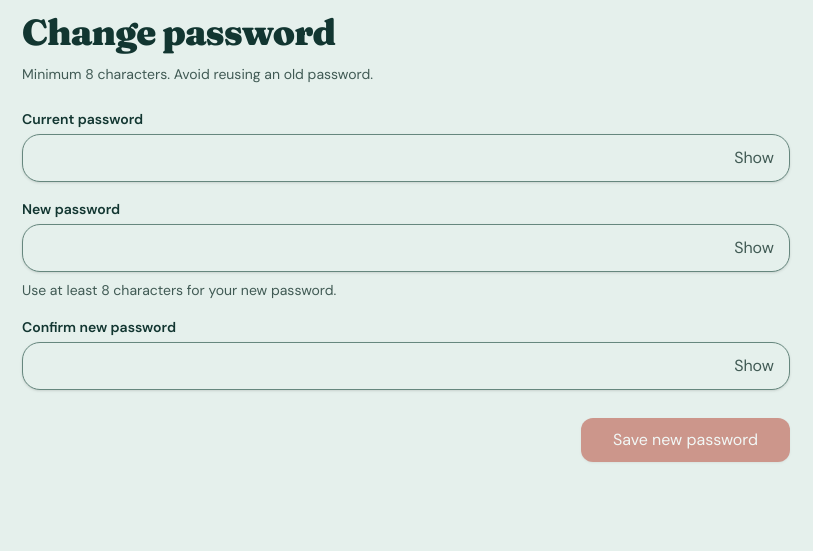
Test: ChangePassword › keeps the form and exposes the server error when the current password is invalid
The image size is (813, 551).
Type "old-password" into the password field labelled "Current password". click: (406, 158)
box: left=22, top=134, right=790, bottom=182
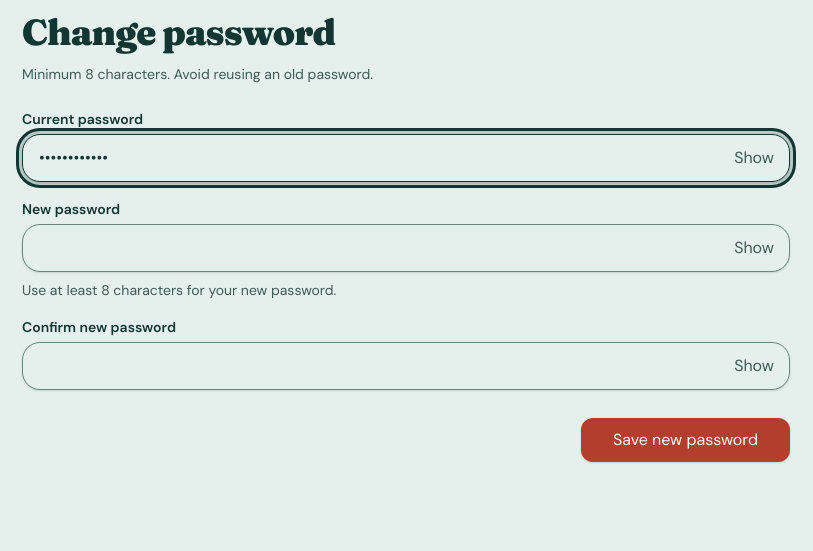
Type "new-password" into the password field labelled "New password". click: (406, 248)
box: left=22, top=224, right=790, bottom=272
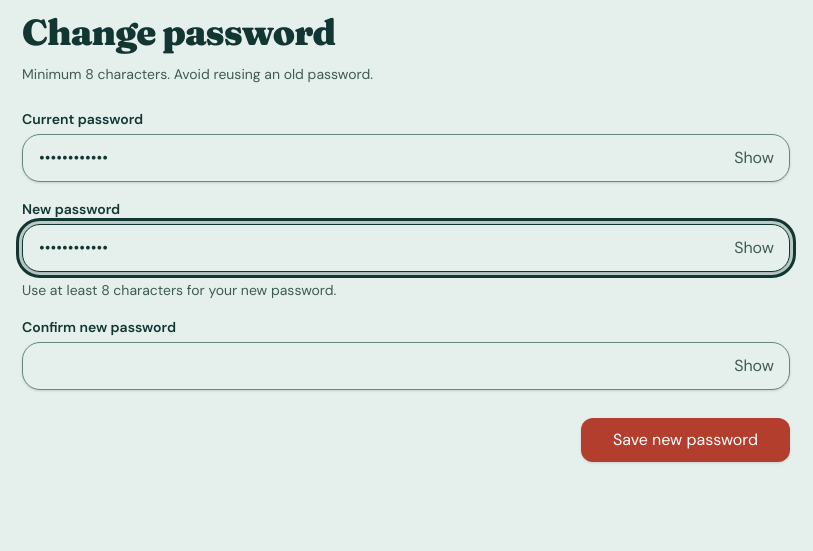
Type "new-password" into the password field labelled "Confirm new password". click: (406, 366)
box: left=22, top=342, right=790, bottom=390
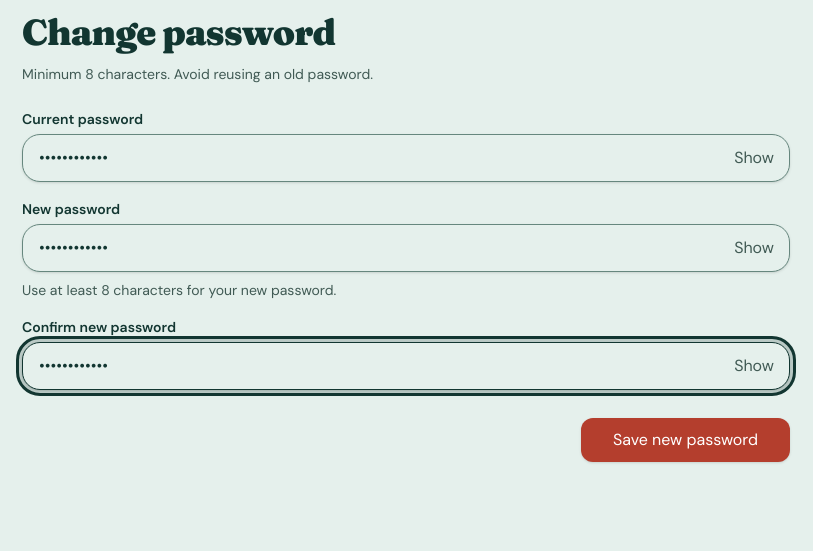
Click the button "Save new password". click: (686, 440)
box: left=581, top=418, right=790, bottom=462
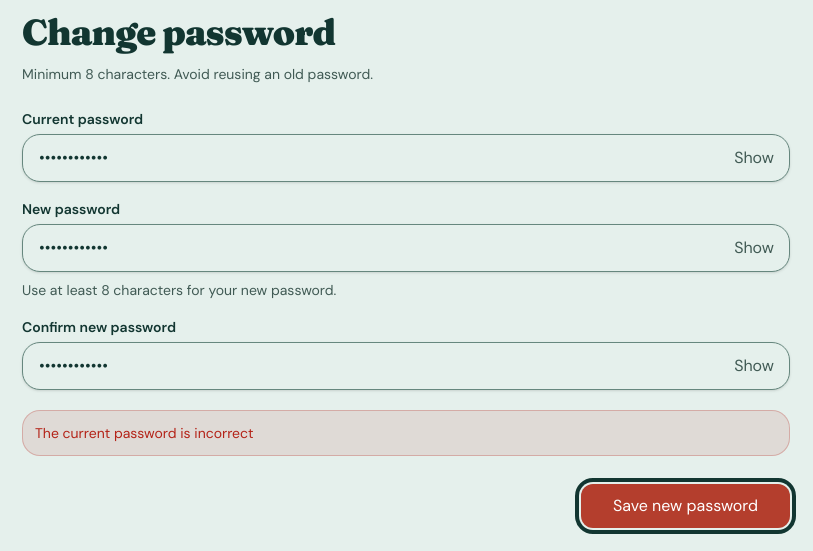
Expected: the message shows "current password is incorrect", left=35, top=424, right=253, bottom=442
